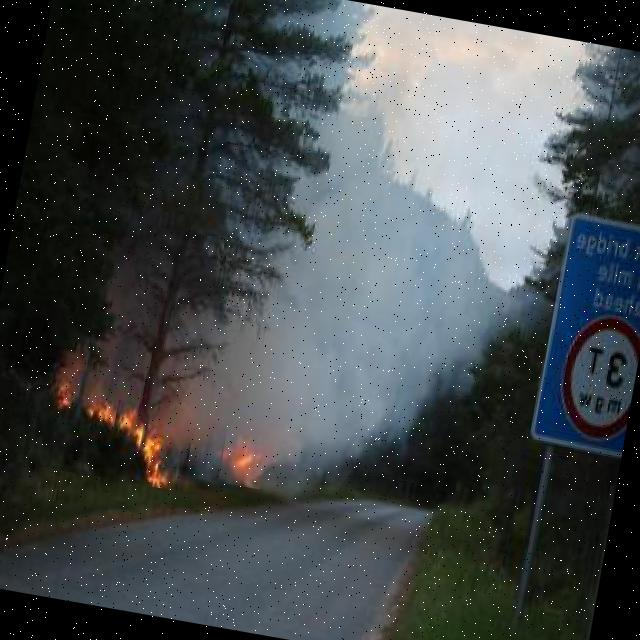fire: (37, 366, 190, 490), (218, 424, 270, 490)
